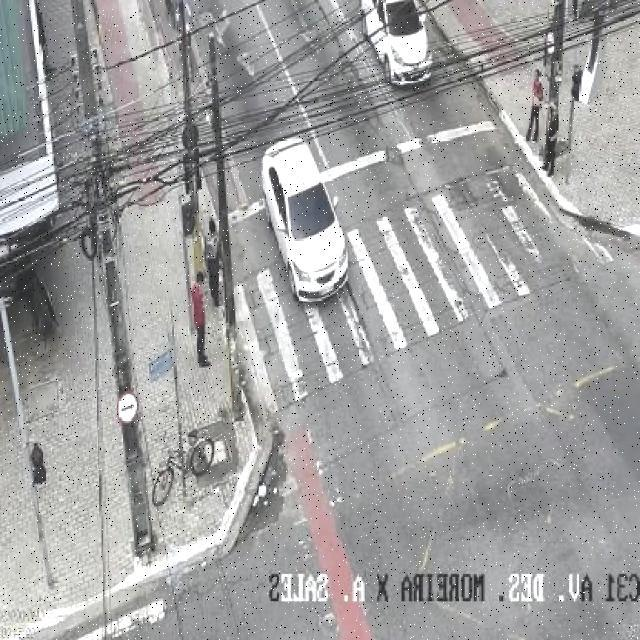Car: (263, 135, 360, 302), (356, 0, 437, 86)
Cycle: (148, 430, 220, 509)
